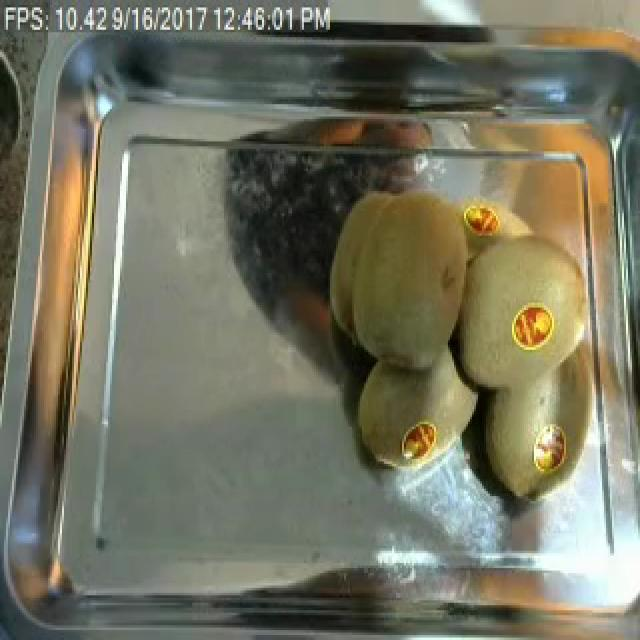Fruit: (318, 174, 490, 377), (346, 348, 486, 482), (414, 563, 640, 640), (504, 298, 564, 357)
